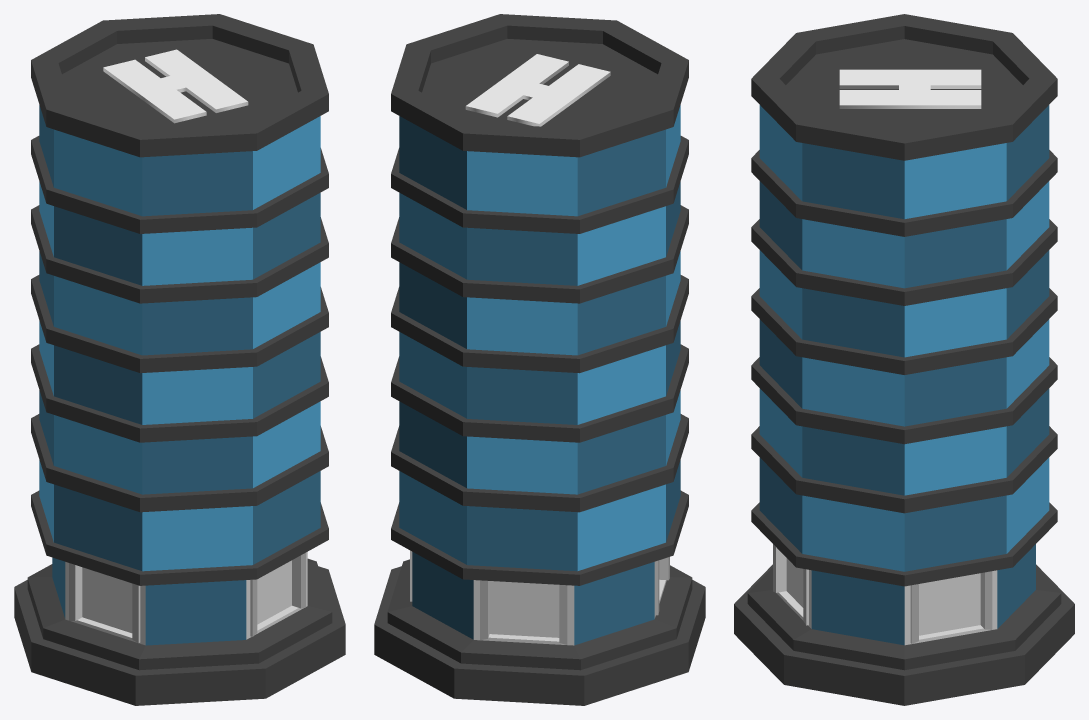
3 renders of one model, left to right at view 1: azimuth 30°, elevation 25°; view 2: azimuth 150°, elevation 25°; view 3: azimuth 270°, elevation 25°, orthographic.
Parts seen in each view (by area): view 1: Cylinder, Text; view 2: Cylinder, Text; view 3: Cylinder, Text.
Part boxes in pixels (bbox=[...]): Cylinder: bbox=[14, 14, 345, 705]; Text: bbox=[103, 49, 248, 123]; Cylinder: bbox=[374, 14, 705, 705]; Text: bbox=[465, 54, 610, 126]; Cylinder: bbox=[734, 14, 1074, 705]; Text: bbox=[839, 69, 981, 108].
Size of the model in its own units: 200 by 359 by 200.
